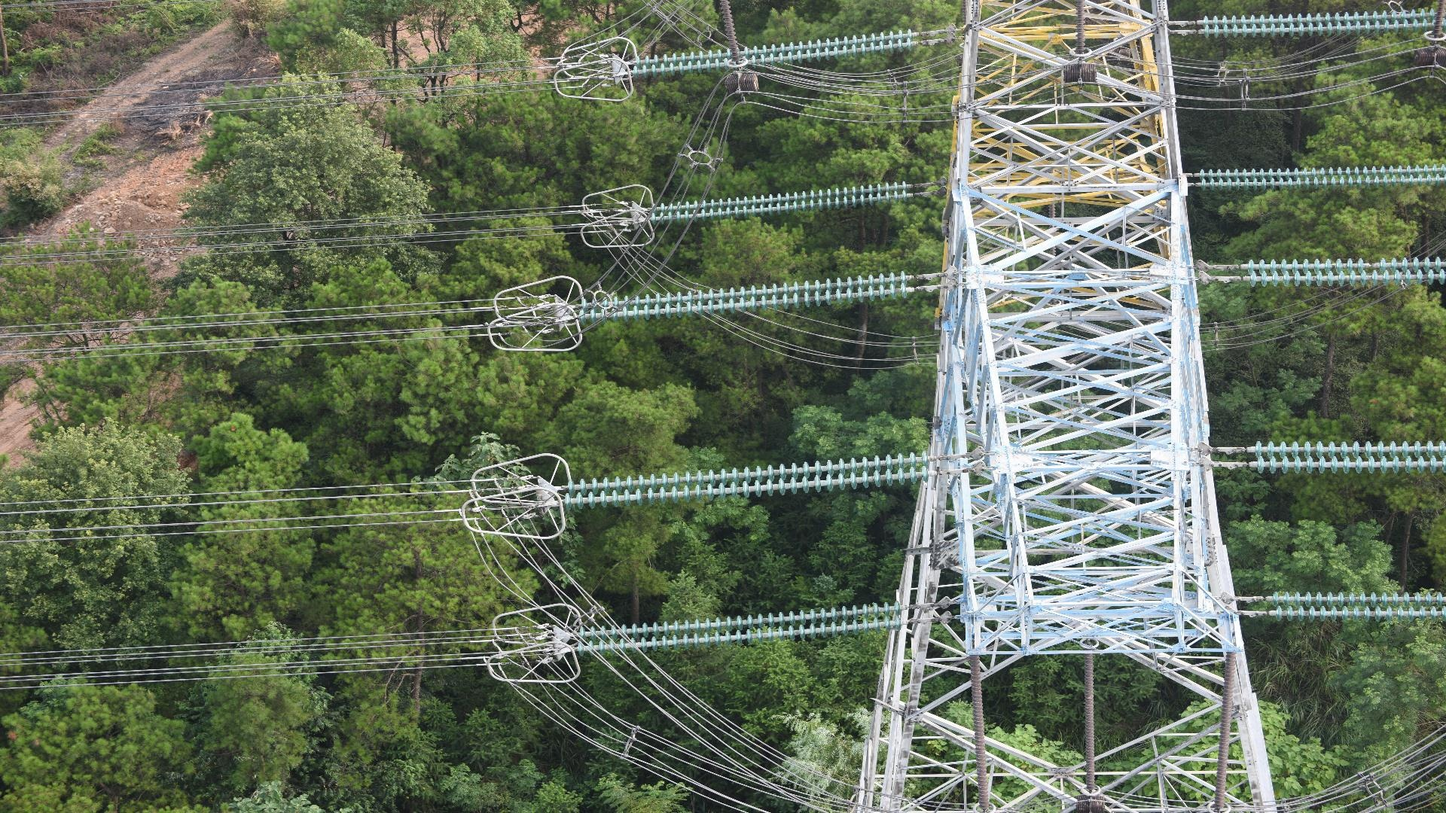insulator: (563, 449, 930, 515), (575, 598, 903, 659), (577, 269, 910, 328), (629, 26, 915, 82), (648, 178, 909, 228), (1197, 161, 1446, 193), (1252, 438, 1446, 477), (1246, 256, 1446, 290), (1271, 589, 1446, 623), (966, 653, 991, 811), (1213, 650, 1237, 809), (1082, 648, 1097, 791), (719, 1, 742, 64), (1072, 1, 1088, 54)
